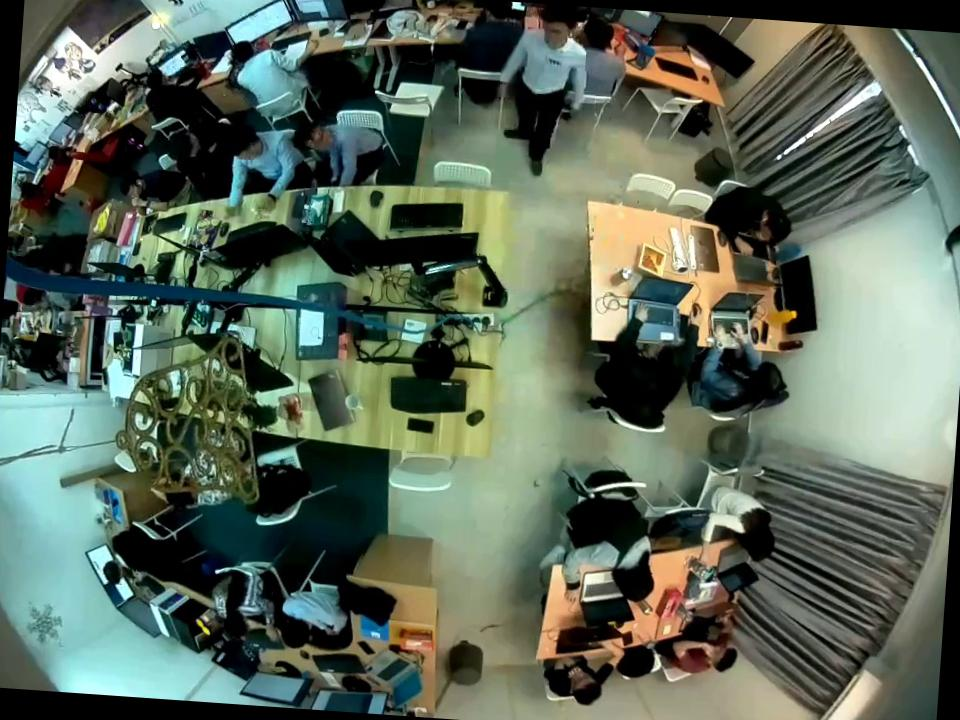employee_tag: (546, 55, 564, 72)
